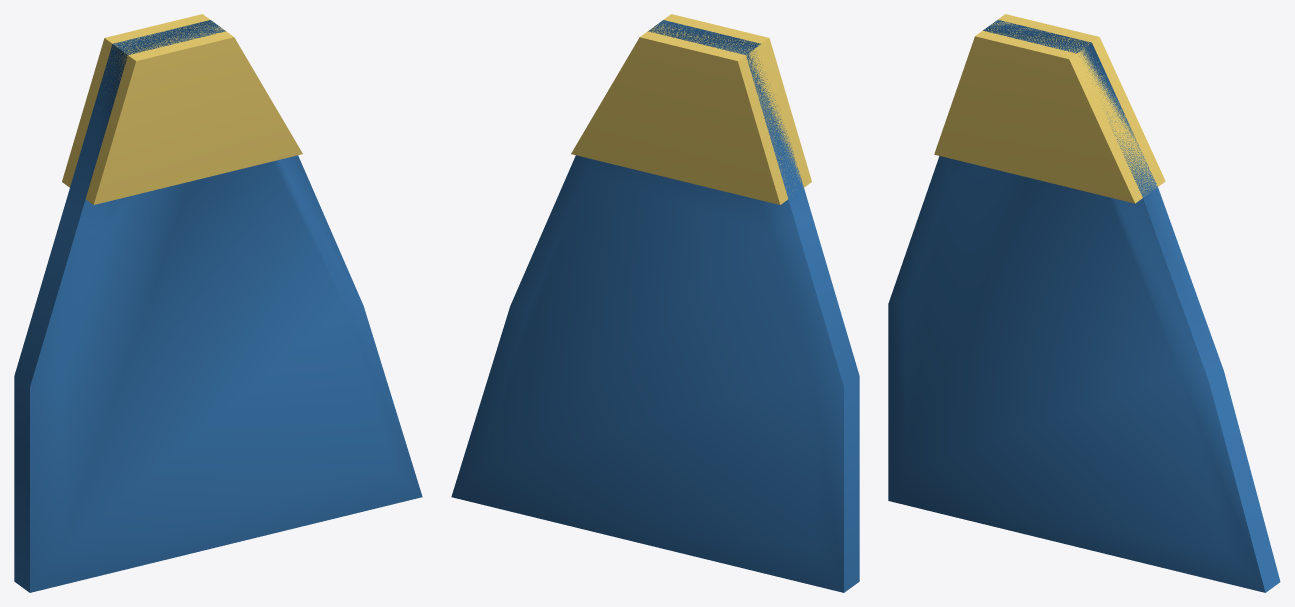
File: fin-swept.glb
3 renders of one model, left to right at view 1: azimuth 30°, elevation 25°; view 2: azimuth 150°, elevation 25°; view 3: azimuth 330°, elevation 25°, orthographic. The views are drawn at different scales.
Visible parts, largest first — view 1: body, trim; view 2: body, trim; view 3: body, trim.
Boxes of the visible parts, left/top/right/bottom form: body: left=14, top=20, right=422, bottom=592; trim: left=62, top=14, right=302, bottom=204; body: left=451, top=20, right=859, bottom=592; trim: left=571, top=14, right=811, bottom=204; body: left=888, top=20, right=1280, bottom=592; trim: left=934, top=14, right=1165, bottom=203.
Bounding box in the file's own units: 0.4 × 0.5 × 0.056.
